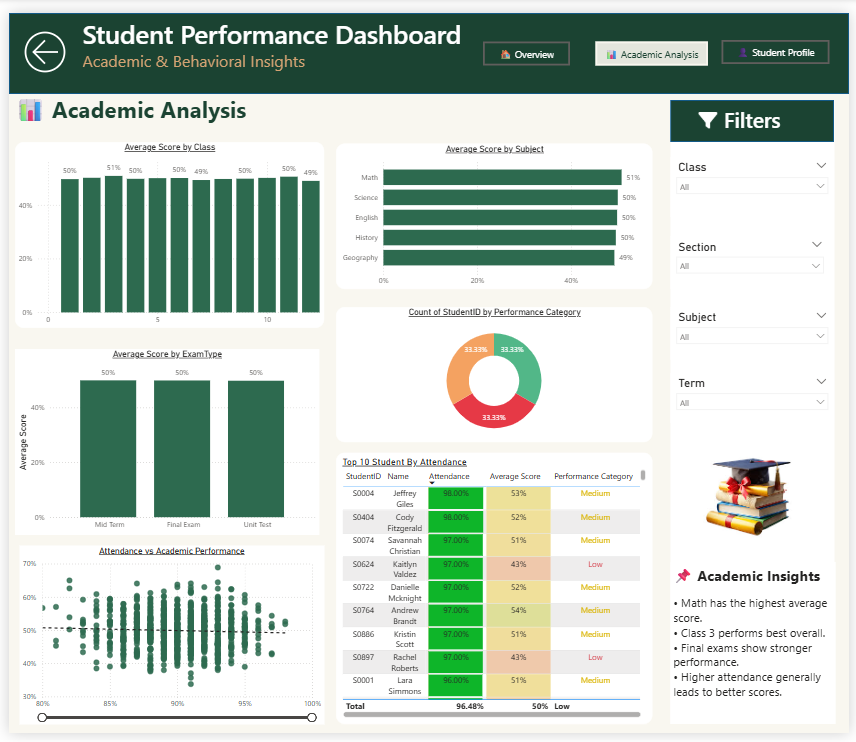

The page's visual inventory and layout, read from the dashboard file:
{"tool":"powerbi","page":{"name":"Academic Analysis","canvas":[1400,1200],"ordinal":1},"visuals":[{"type":"shape","box":[0,0,1400,135],"z":0},{"type":"textbox","box":[117.5,0,672.5,135],"z":1000},{"type":"actionButton","box":[790,47.5,145,40],"z":2000},{"type":"actionButton","box":[1187.5,45,180,40],"z":3000},{"type":"actionButton","box":[977.5,47.5,187.5,40],"z":4000},{"type":"shape","box":[1126,0,274,1040],"z":5000},{"type":"slicer","fields":{"Values":["Students.Class"]},"box":[1102.5,240,272.5,100],"z":6000},{"type":"shape","box":[1102.5,145,272.5,70],"z":7000},{"type":"image","box":[1142.5,165,45,27.5],"z":8000},{"type":"slicer","fields":{"Values":["Students.Section"]},"box":[1102.5,372.5,265,87.5],"z":9000},{"type":"slicer","fields":{"Values":["Scores.Subject"]},"box":[1102.5,490,272.5,87.5],"z":10000},{"type":"slicer","fields":{"Values":["Scores.Term"]},"box":[1102.5,600,272.5,82.5],"z":11000},{"type":"image","box":[1125,715,225,172.5],"z":12000},{"type":"textbox","box":[0,135,1050,57.5],"z":13000},{"type":"clusteredColumnChart","fields":{"Category":["Students.Class"],"Y":["Measure.Average Score"]},"box":[10,215,515,310],"z":14000},{"type":"clusteredBarChart","fields":{"Category":["Scores.Subject"],"Y":["Measure.Average Score"]},"box":[545,217.5,527.5,242.5],"z":15000},{"type":"clusteredColumnChart","fields":{"Category":["Scores.ExamType"],"Y":["Measure.Average Score"]},"box":[10,560,507.5,310],"z":16000},{"type":"donutChart","fields":{"Category":["Scores.Performance Category"],"Y":["CountNonNull(Students.StudentID)"]},"box":[545,490,527.5,225],"z":17000},{"type":"scatterChart","title":"Attendance vs Academic Performance","fields":{"Category":["Students.StudentID"],"X":["Measure.Attendance"],"Y":["Measure.Average Score"]},"box":[17.5,887.5,507.5,297.5],"z":18000},{"type":"textbox","box":[1102.5,915,275,270],"z":19000},{"type":"tableEx","title":"Top 10 Student By Attendance","fields":{"Values":["Attendance.StudentID","Students.Name","Measure.Attendance %","Measure.Average Score","Measure.Performance Category"]},"box":[545,732.5,527.5,452.5],"z":20000},{"type":"actionButton","box":[17.5,22.5,100,85],"z":20001}]}

Visuals, with their boxes in screenshot pixels (x1, y1, x2, y2), scaled from the page's 1400x1200 canvas onto the 856x742 screenshot:
shape: pyautogui.locateOnScreen(0, 0, 855, 83)
textbox: pyautogui.locateOnScreen(72, 0, 483, 83)
actionButton: pyautogui.locateOnScreen(483, 29, 572, 54)
actionButton: pyautogui.locateOnScreen(726, 28, 836, 53)
actionButton: pyautogui.locateOnScreen(598, 29, 712, 54)
shape: pyautogui.locateOnScreen(688, 0, 855, 643)
slicer - Students.Class: pyautogui.locateOnScreen(674, 148, 841, 210)
shape: pyautogui.locateOnScreen(674, 90, 841, 133)
image: pyautogui.locateOnScreen(699, 102, 726, 119)
slicer - Students.Section: pyautogui.locateOnScreen(674, 230, 836, 284)
slicer - Scores.Subject: pyautogui.locateOnScreen(674, 303, 841, 357)
slicer - Scores.Term: pyautogui.locateOnScreen(674, 371, 841, 422)
image: pyautogui.locateOnScreen(688, 442, 825, 549)
textbox: pyautogui.locateOnScreen(0, 83, 642, 119)
clusteredColumnChart - Students.Class x Measure.Average Score: pyautogui.locateOnScreen(6, 133, 321, 325)
clusteredBarChart - Scores.Subject x Measure.Average Score: pyautogui.locateOnScreen(333, 134, 656, 284)
clusteredColumnChart - Scores.ExamType x Measure.Average Score: pyautogui.locateOnScreen(6, 346, 316, 538)
donutChart - Scores.Performance Category x CountNonNull(Students.StudentID): pyautogui.locateOnScreen(333, 303, 656, 442)
"Attendance vs Academic Performance" scatterChart: pyautogui.locateOnScreen(11, 549, 321, 733)
textbox: pyautogui.locateOnScreen(674, 566, 842, 733)
"Top 10 Student By Attendance" tableEx: pyautogui.locateOnScreen(333, 453, 656, 733)
actionButton: pyautogui.locateOnScreen(11, 14, 72, 66)
